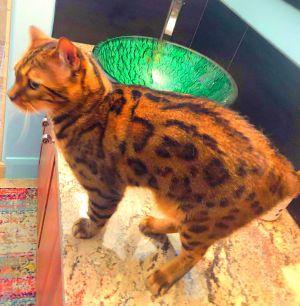bengal: (1, 12, 101, 118)
